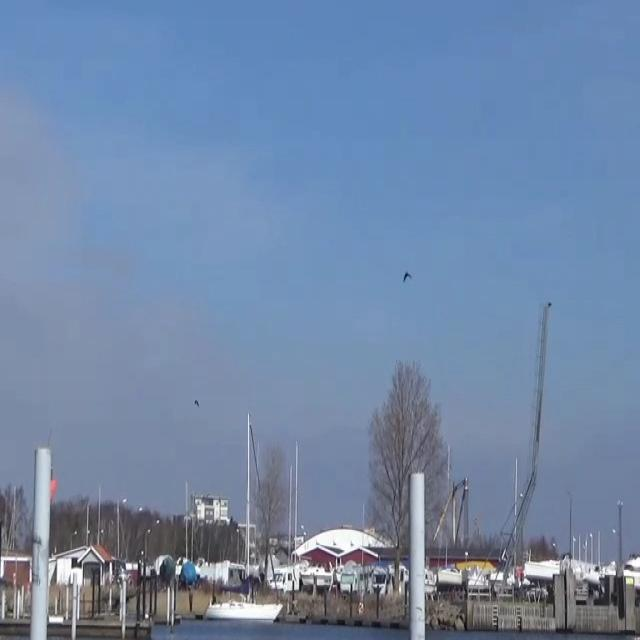bird: (400, 270, 414, 285), (190, 396, 202, 409)
